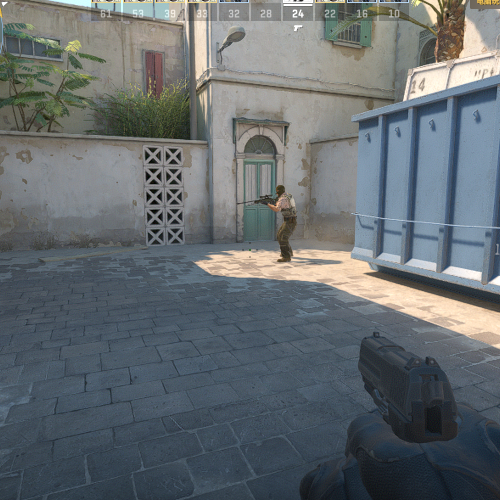t_body: (268, 185, 297, 263)
t_head: (276, 185, 285, 196)
